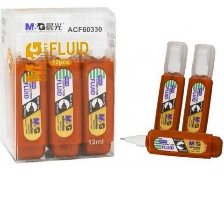correction_fluid: (79, 13, 115, 158), (13, 15, 48, 161), (47, 14, 79, 161), (117, 127, 224, 163), (179, 42, 216, 144), (152, 38, 188, 140)
plastic_box: (0, 3, 119, 166)
